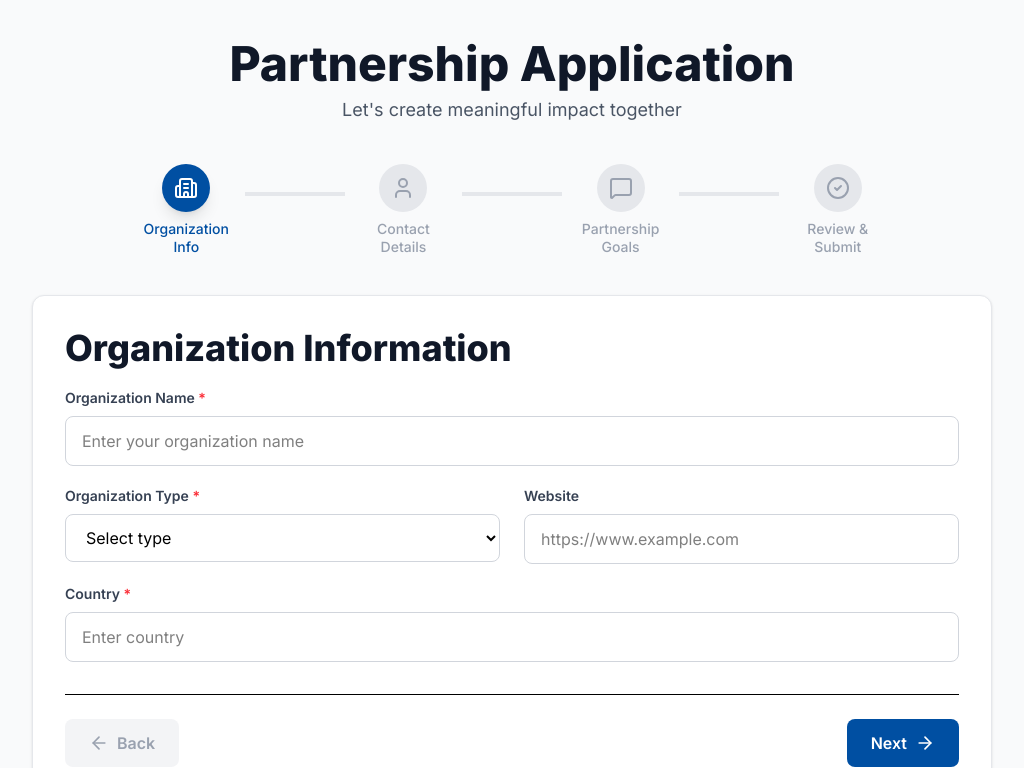
Test: Partnership Application Form › allows going back to previous steps
Note: Fill and move to step 2 (simplified)
Type "Test Org" into the field with placeholder "Enter your organization name". click: (512, 441)
box: [65,416,959,466]
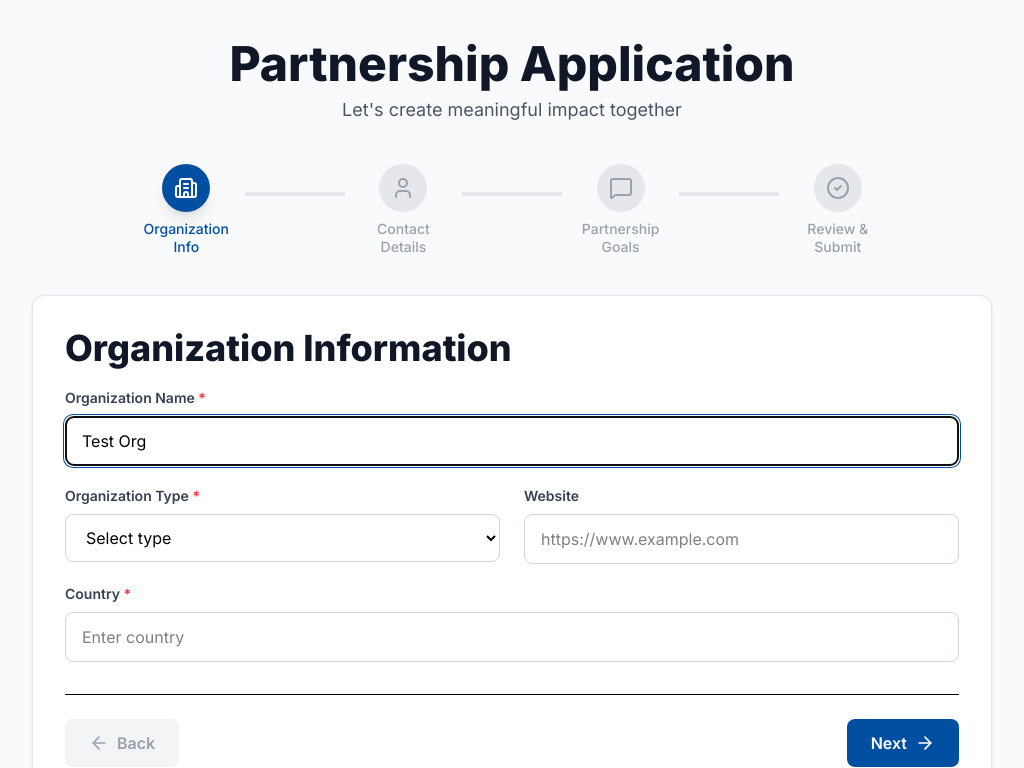
Select "Corporate/Business" in the dropdown labelled "Organization Type *". click: (282, 538)
box: [65,514,500,562]
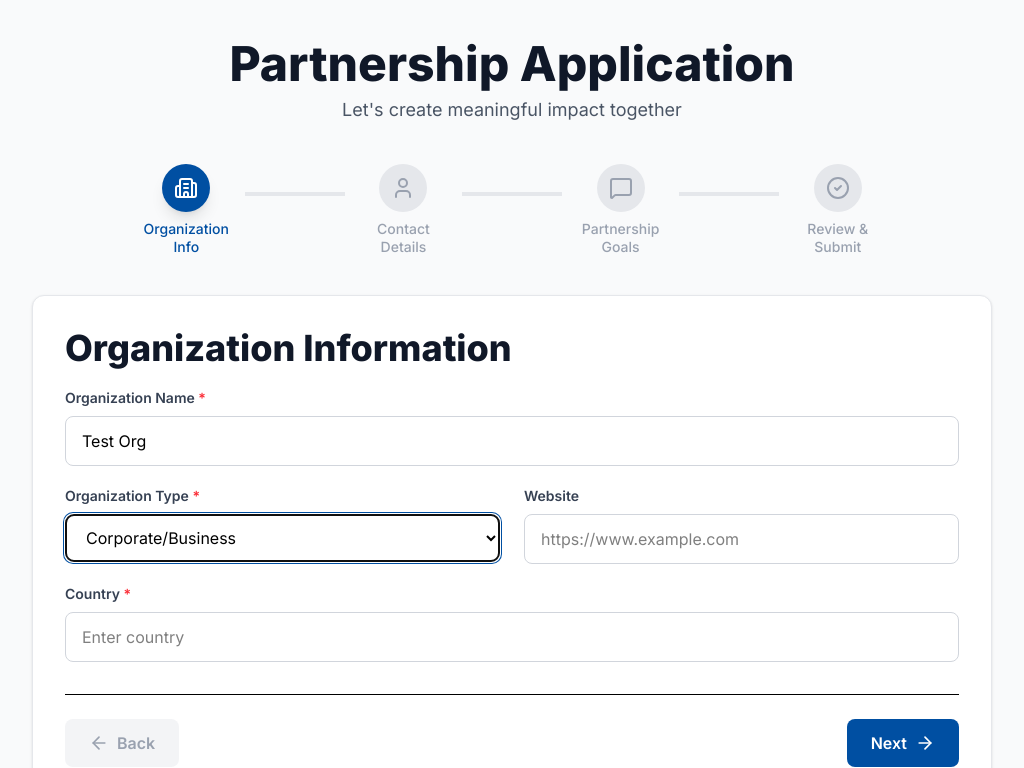
Type "Ghana" into the field with placeholder "Enter country". click: (512, 637)
box: [65,612,959,662]
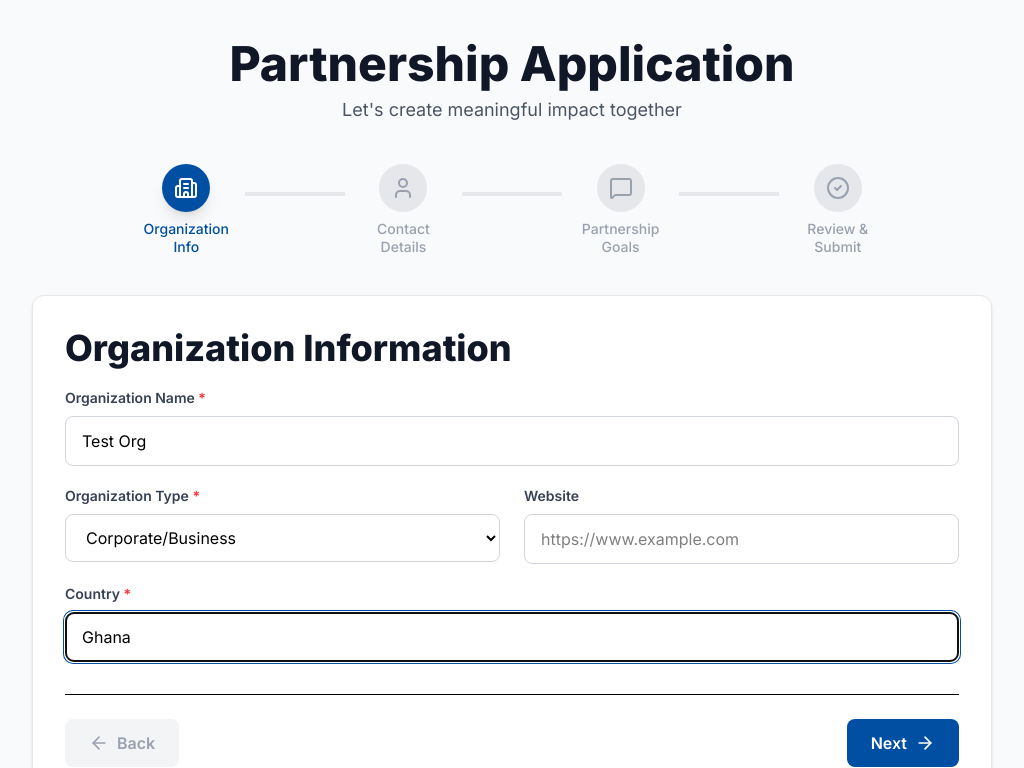
Click the button "Next". click: (903, 743)
box: [847,719,959,767]
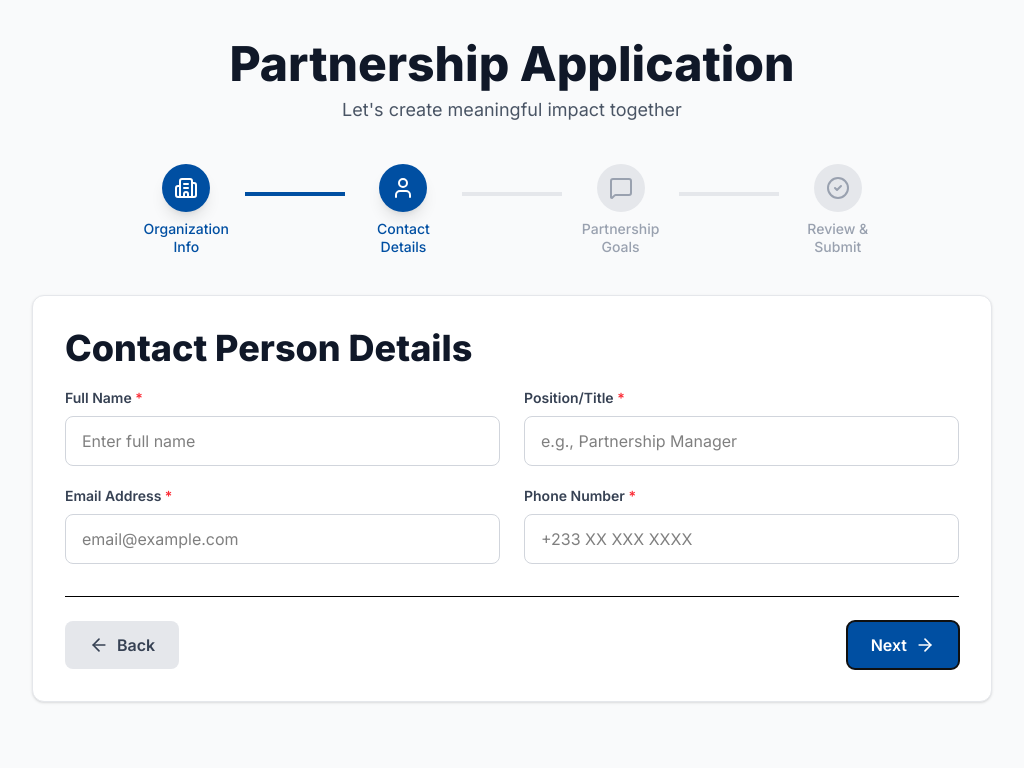
Expected: the heading "Contact Person Details" is shown, [65,326,472,370]
Note:  Go back
Click the button "Back". click: (122, 645)
box: [65,621,179,669]
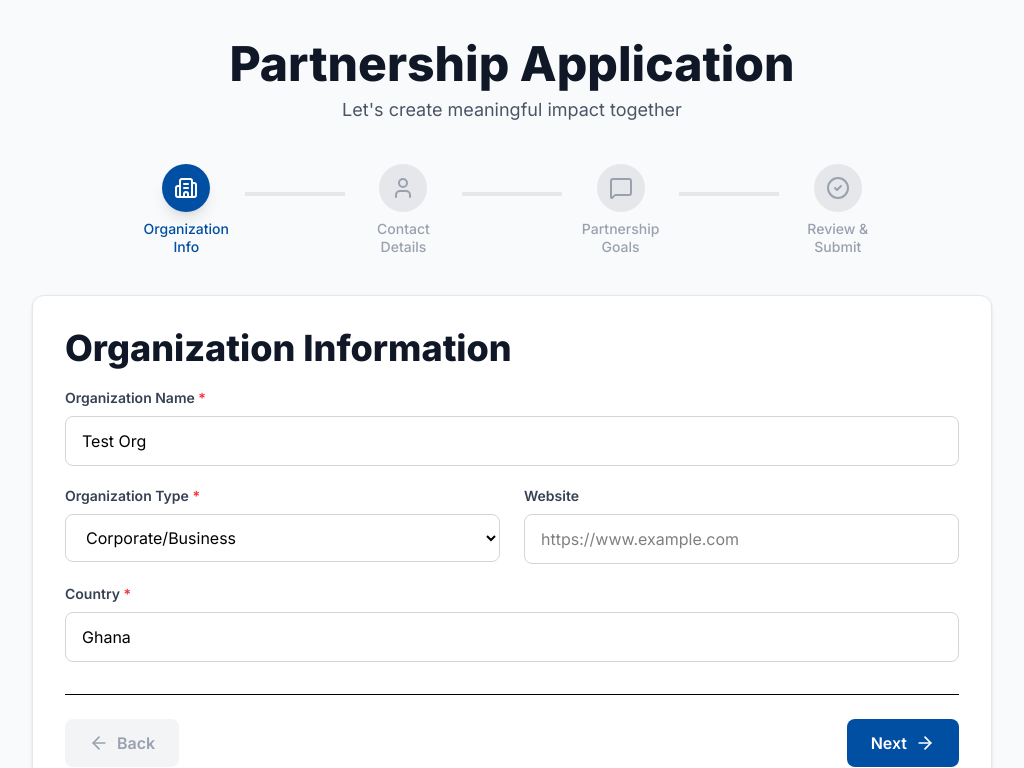
Expected: the heading "Organization Information" is shown, [65,326,512,370]
